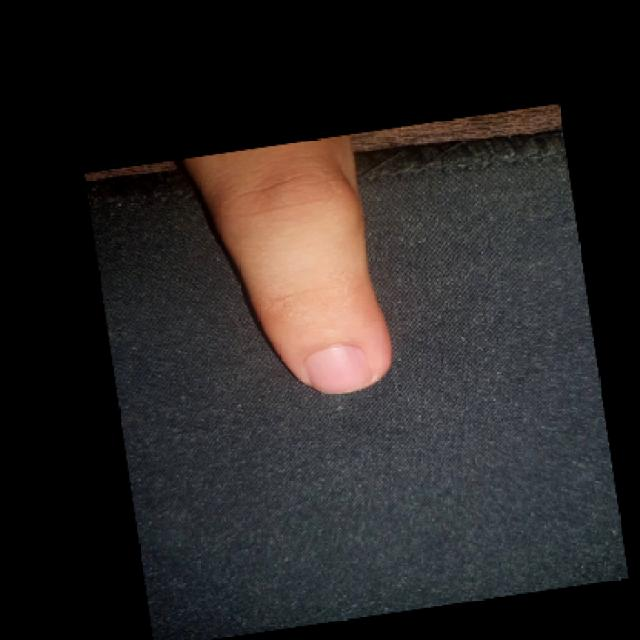Nail: (303, 344, 372, 394)
